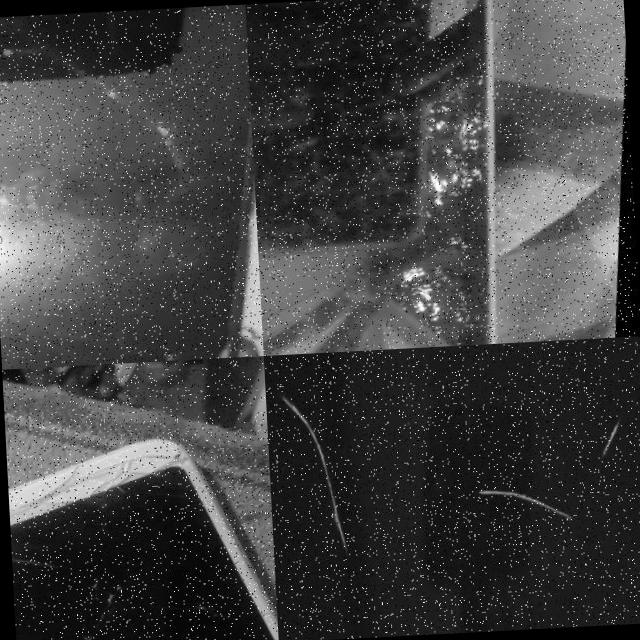scratch: (274, 379, 371, 554), (472, 460, 596, 556), (598, 408, 637, 468)
screen crack: (0, 4, 249, 232), (376, 68, 530, 348), (7, 442, 205, 604), (259, 257, 355, 355)
